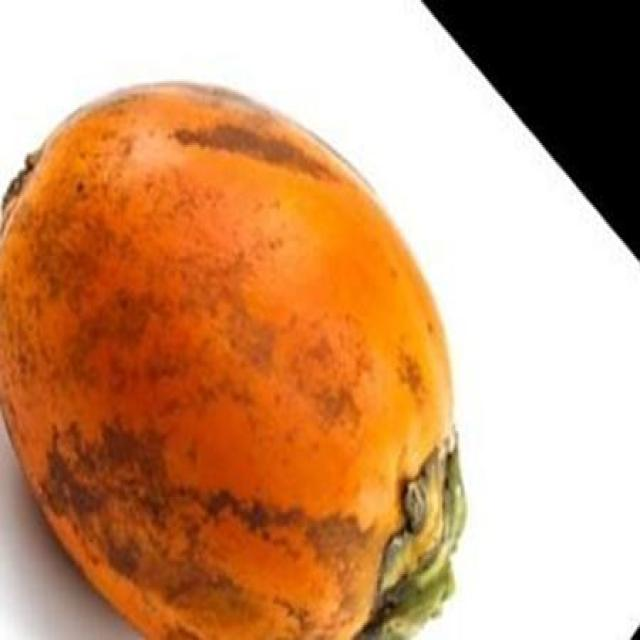good: (0, 83, 469, 638)
